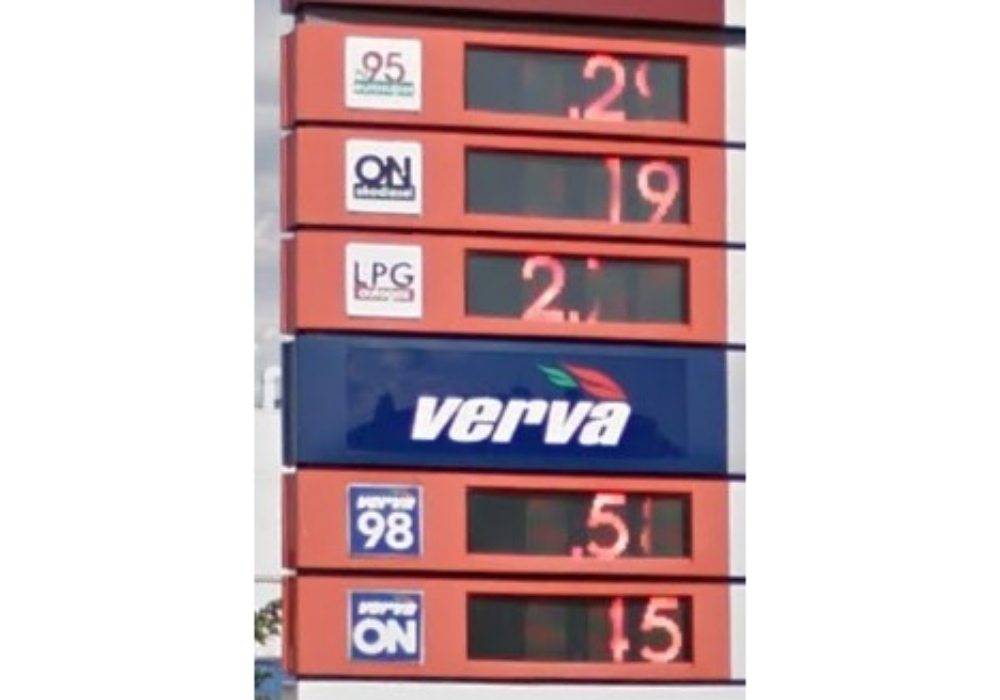LPG: (342, 242, 423, 323)
ON: (342, 135, 426, 215), (347, 587, 422, 664)
PB95: (341, 33, 422, 113)
PB98: (344, 481, 422, 557)
